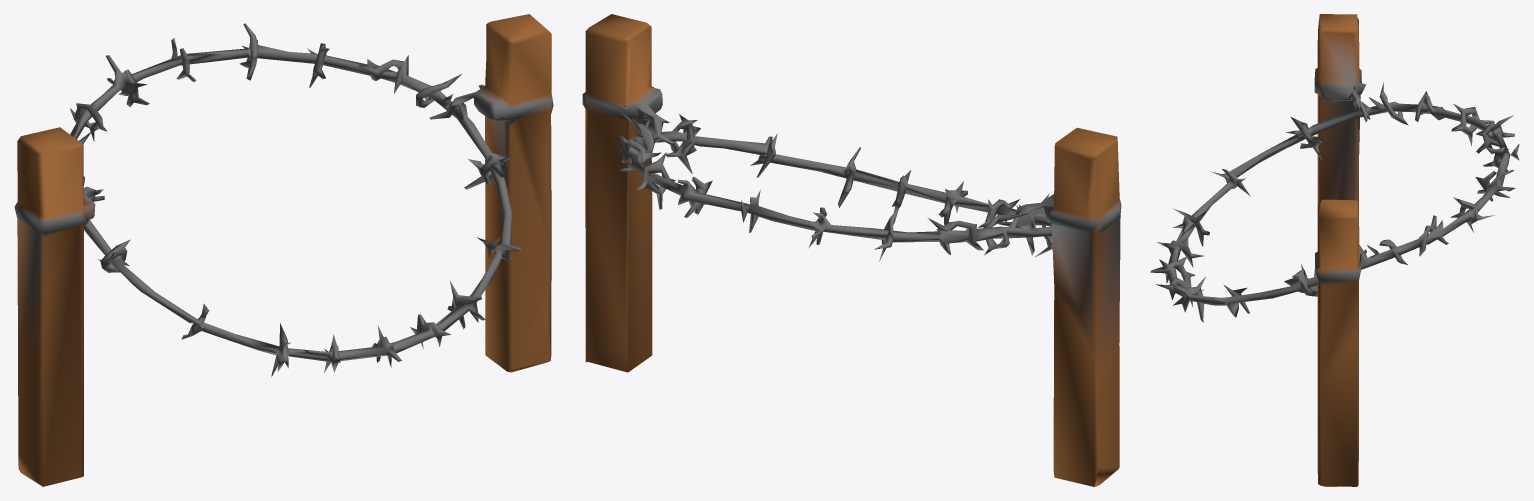
The model's file is gen3d-barbed-wire-lod1.glb.
The picture shows the model from 3 angles, left to right: view 1: azimuth 30°, elevation 25°; view 2: azimuth 150°, elevation 25°; view 3: azimuth 270°, elevation 25°; orthographic projection. The views are drawn at different scales.
Parts seen in each view (by area): view 1: part_0; view 2: part_0; view 3: part_0.
Part boxes in pixels (left/top/right/bottom): part_0: left=14, top=14, right=553, bottom=486; part_0: left=582, top=14, right=1121, bottom=486; part_0: left=1150, top=14, right=1519, bottom=486.
Bounding box in the file's own units: 1.62 × 0.9984 × 1.23.
